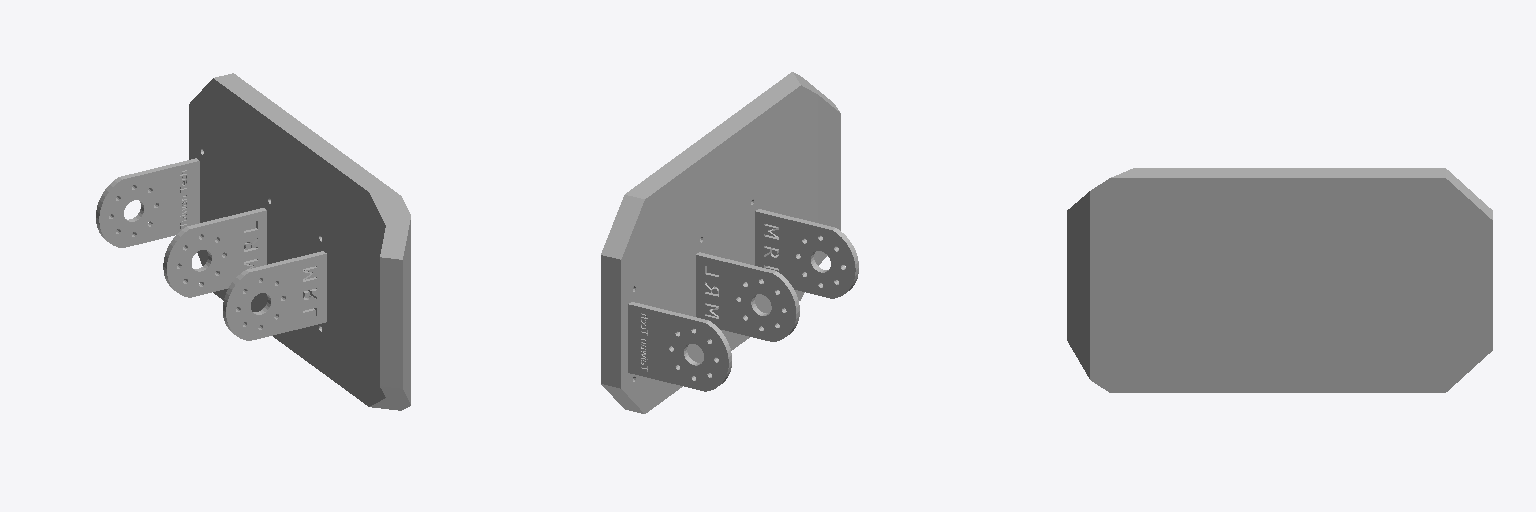
File: Foot.obj
3 renders of one model, left to right at view 1: azimuth 30°, elevation 25°; view 2: azimuth 150°, elevation 25°; view 3: azimuth 270°, elevation 25°, orthographic.
Bounding box in the file's own units: 5.9 × 10 × 18.